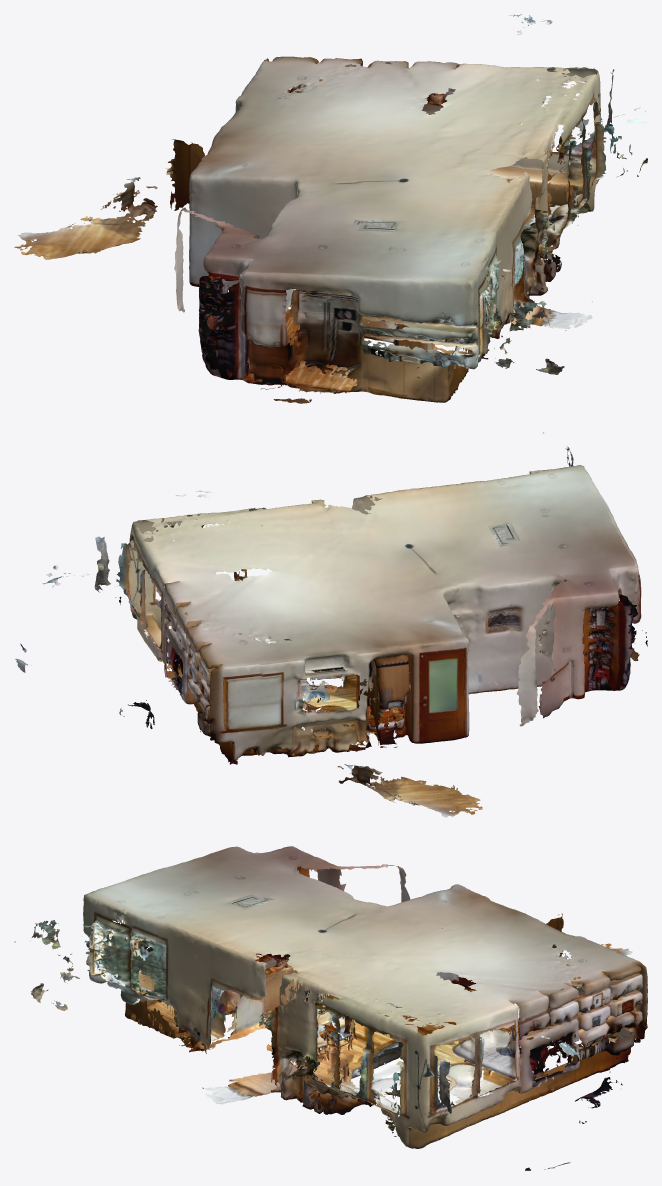
File: FBX_Animationtest2.fbx
3 renders of one model, top to bottom at view 1: azimuth 30°, elevation 25°; view 2: azimuth 150°, elevation 25°; view 3: azimuth 270°, elevation 25°, orthographic. The views are drawn at different scales.
Parts seen in each view (by area): view 1: livingroom_Baked; view 2: livingroom_Baked; view 3: livingroom_Baked.
Boxes of the visible parts, bbox=[...] form: livingroom_Baked: bbox=[14, 14, 647, 403]; livingroom_Baked: bbox=[15, 432, 647, 817]; livingroom_Baked: bbox=[14, 846, 647, 1170].
Bounding box in the file's own units: 1192 × 318 × 1299.
